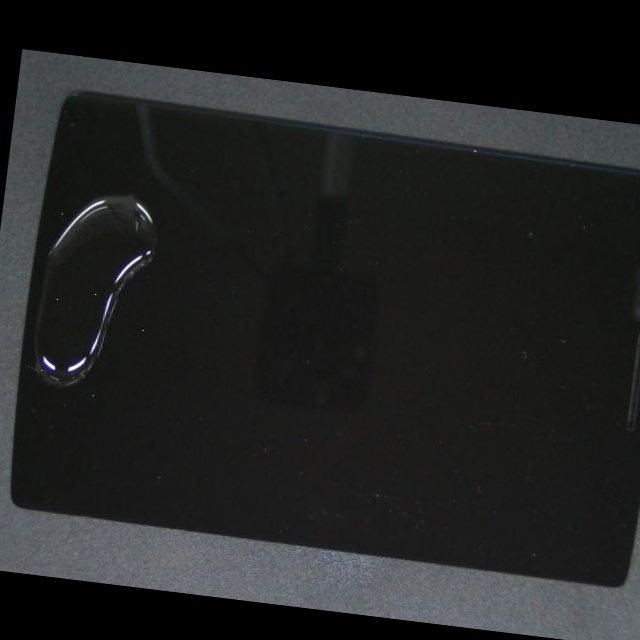oil: (8, 76, 91, 404)
